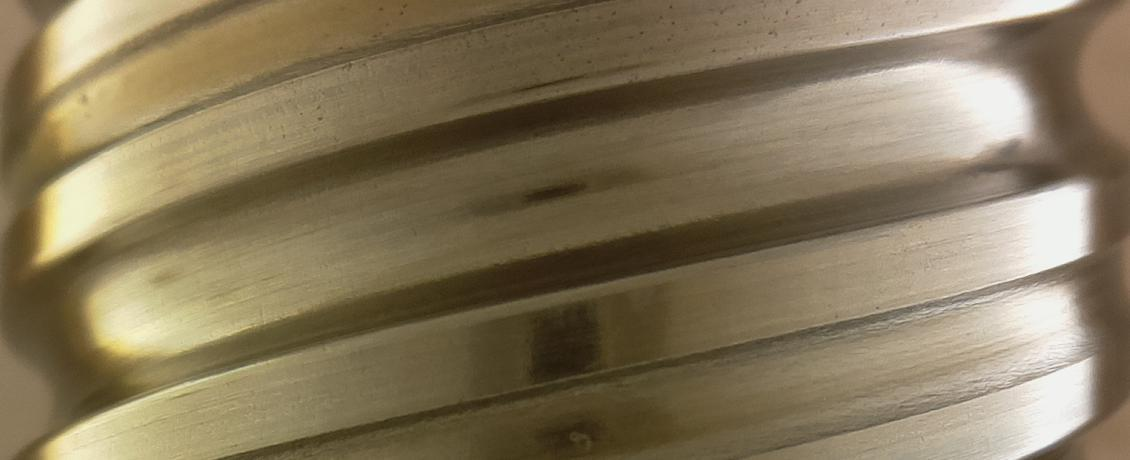pitting: (494, 262, 506, 271)
